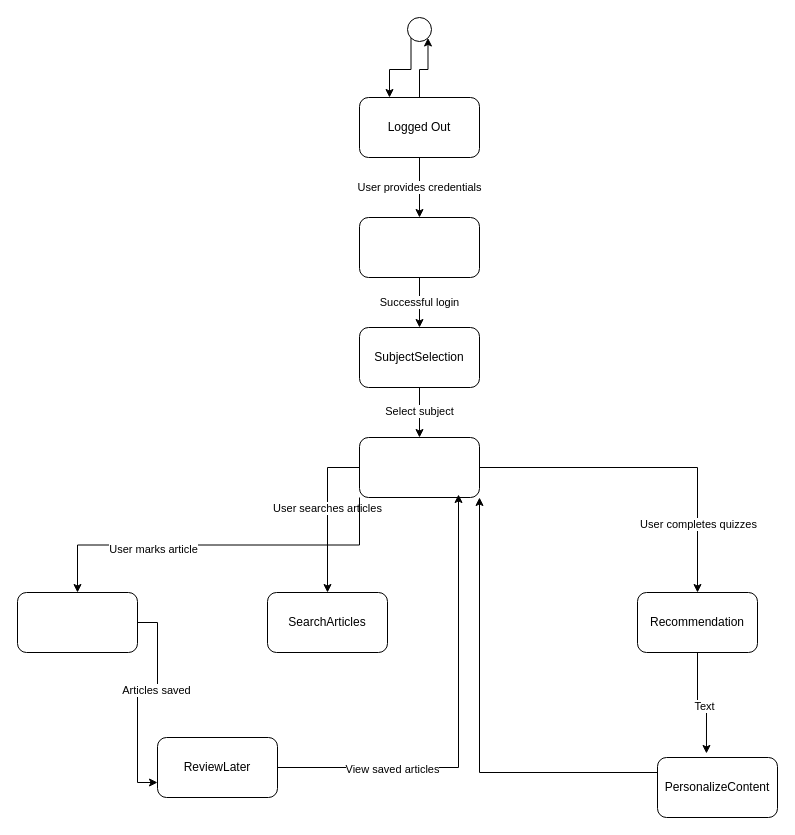
This 795x835 diagram has some shape labels left out. The shapes that lost their labels are listed below. From the top down, each one's centre as x and y in pixels, then its label:
At point 419,247: "Login".
At point 419,467: "ArticleBrowsing".
At point 77,622: "MarkForReview".
